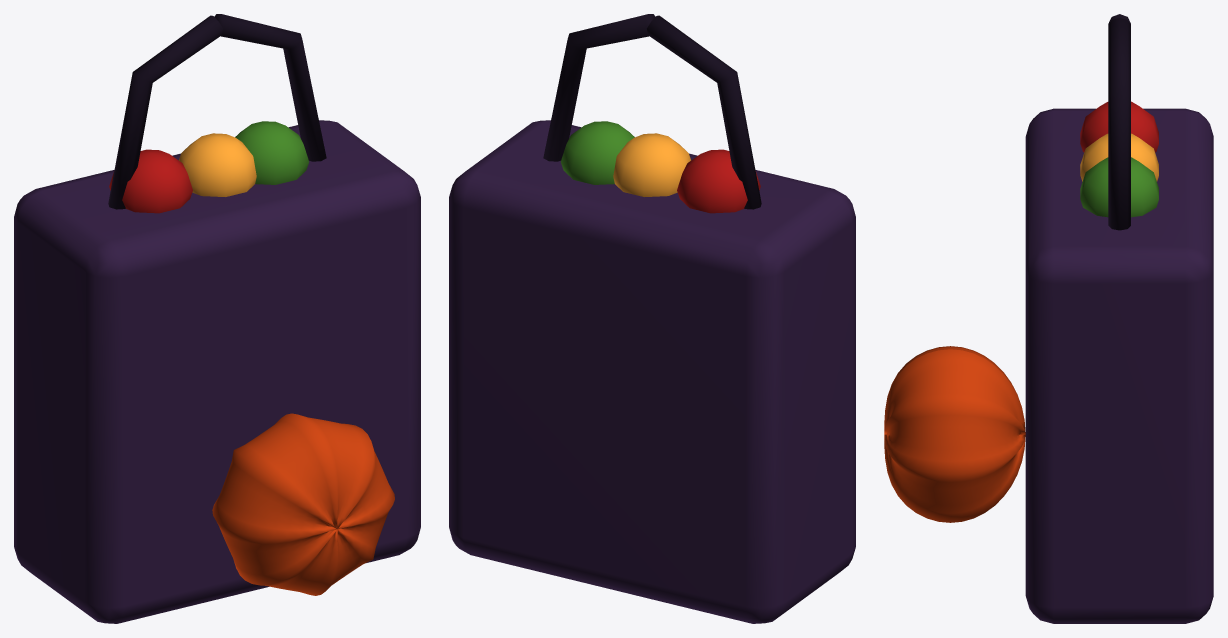
Rendered from trick_or_treat_bag.obj.
3 renders of one model, left to right at view 1: azimuth 30°, elevation 25°; view 2: azimuth 150°, elevation 25°; view 3: azimuth 270°, elevation 25°, orthographic.
Parts seen in each view (by area): view 1: LH_trick_or_treat_bag; view 2: LH_trick_or_treat_bag; view 3: LH_trick_or_treat_bag.
Boxes of the visible parts, x1,y1,x2,y2 form: LH_trick_or_treat_bag: [14, 14, 420, 623]; LH_trick_or_treat_bag: [449, 14, 855, 623]; LH_trick_or_treat_bag: [884, 14, 1213, 623].
Bounding box in the file's own units: 0.2 × 0.3155 × 0.1752.
